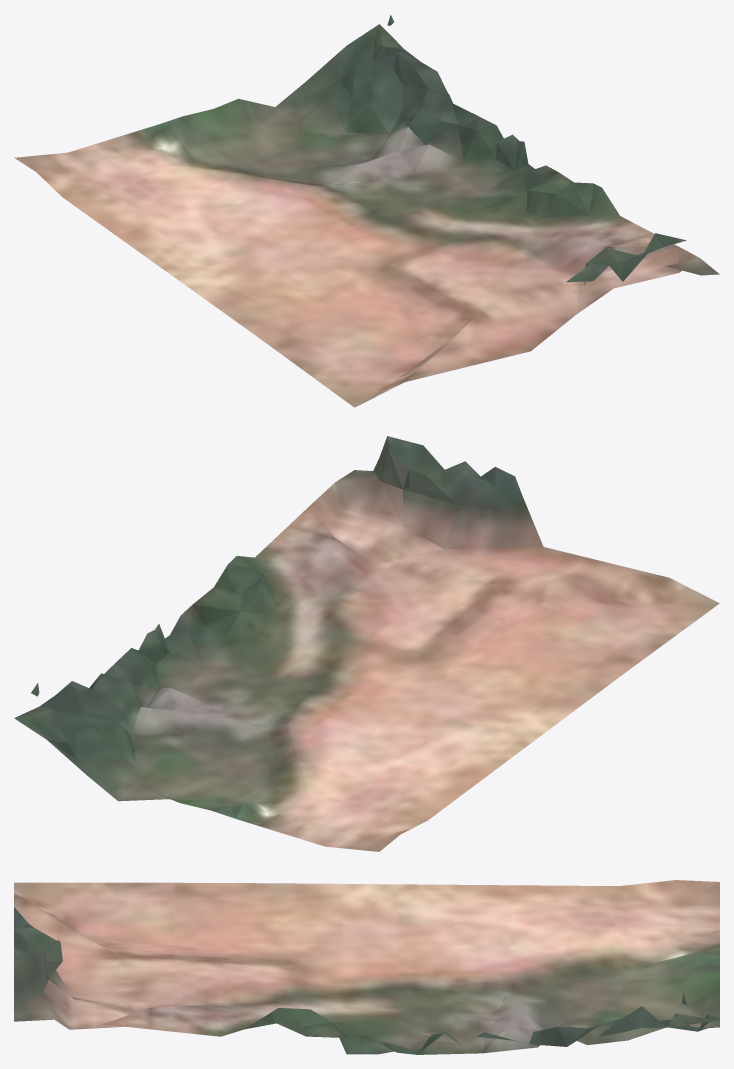
The model's file is Tile__006__007_L16_00.glb.
The picture shows the model from 3 angles, top to bottom: view 1: azimuth 30°, elevation 25°; view 2: azimuth 150°, elevation 25°; view 3: azimuth 270°, elevation 25°; orthographic projection. The views are drawn at different scales.
Visible parts, largest first — view 1: root; view 2: root; view 3: root.
Part boxes in pixels (x1,y1,x2,y2): root: [14, 15, 719, 407]; root: [14, 436, 719, 851]; root: [14, 880, 719, 1054].
Size of the model in its own units: 62.64 by 16.22 by 101.
Materials: 1 (1 with a texture image).
